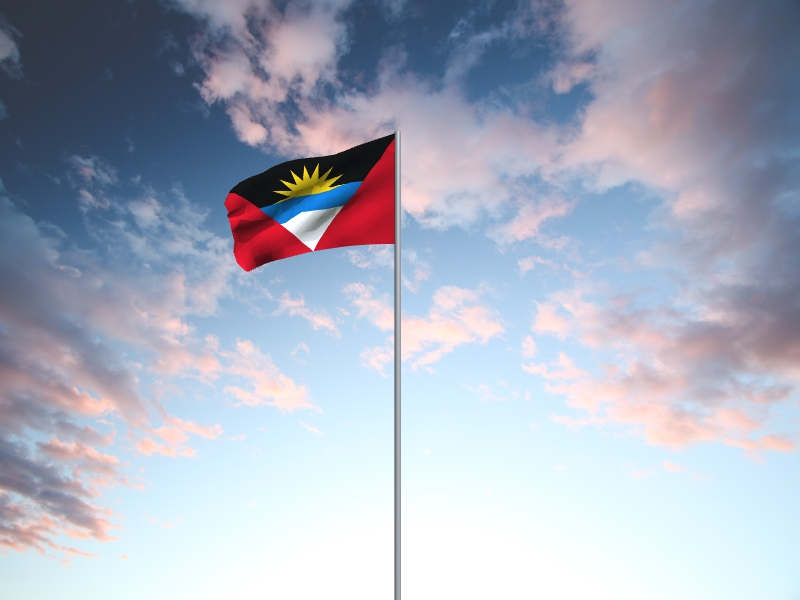ag: (224, 133, 396, 275)
